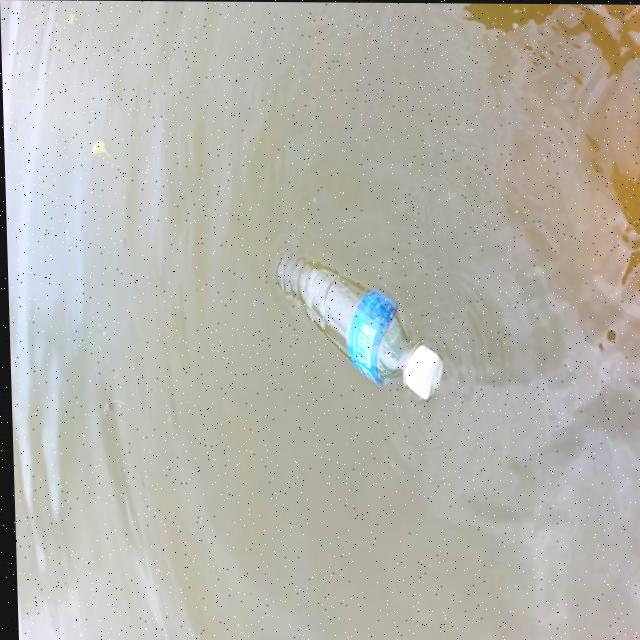waterbottle: (253, 227, 445, 412)
